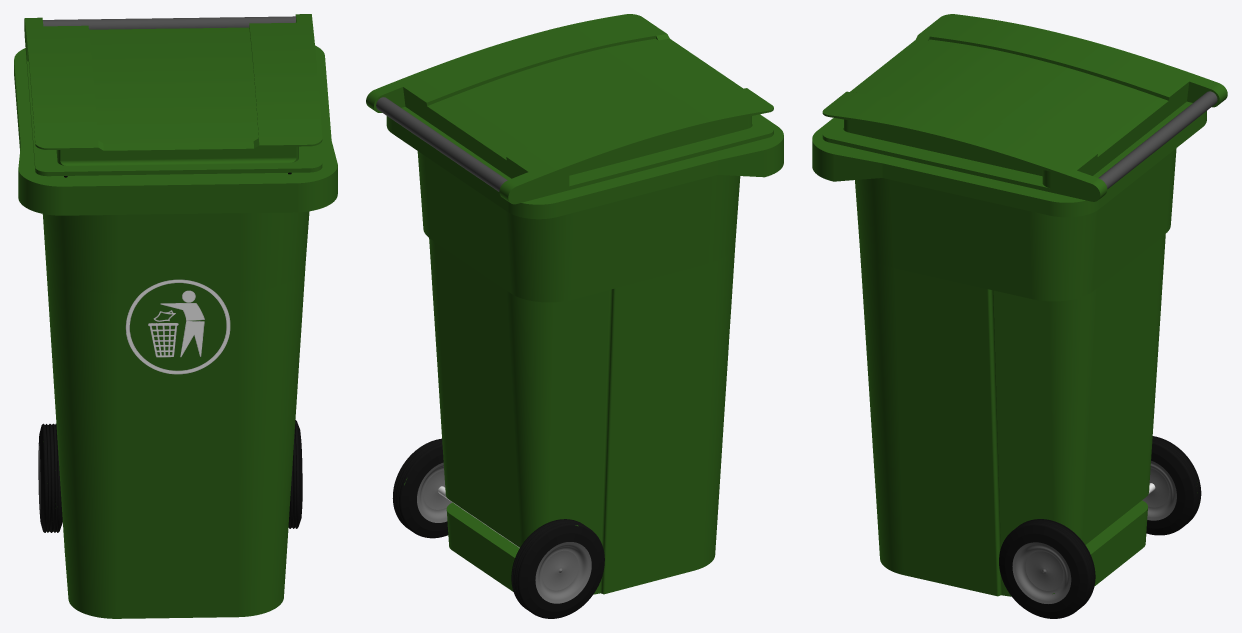
Rendered from bin.glb.
3 views of the same model, side by side, from view 1: azimuth 30°, elevation 25°; view 2: azimuth 150°, elevation 25°; view 3: azimuth 270°, elevation 25° (orthographic). The views are drawn at different scales.
Visible parts, largest first — view 1: poubelle poubelle [261878], logo; view 2: poubelle poubelle [261878]; view 3: poubelle poubelle [261878].
Boxes of the visible parts, x1,y1,x2,y2 form: poubelle poubelle [261878]: [14, 14, 337, 618]; logo: [125, 279, 230, 374]; poubelle poubelle [261878]: [366, 14, 783, 618]; poubelle poubelle [261878]: [812, 14, 1227, 618].
Size of the model in its own units: 0.912 by 1.19 by 0.9579.
8 materials, 3 textured.
